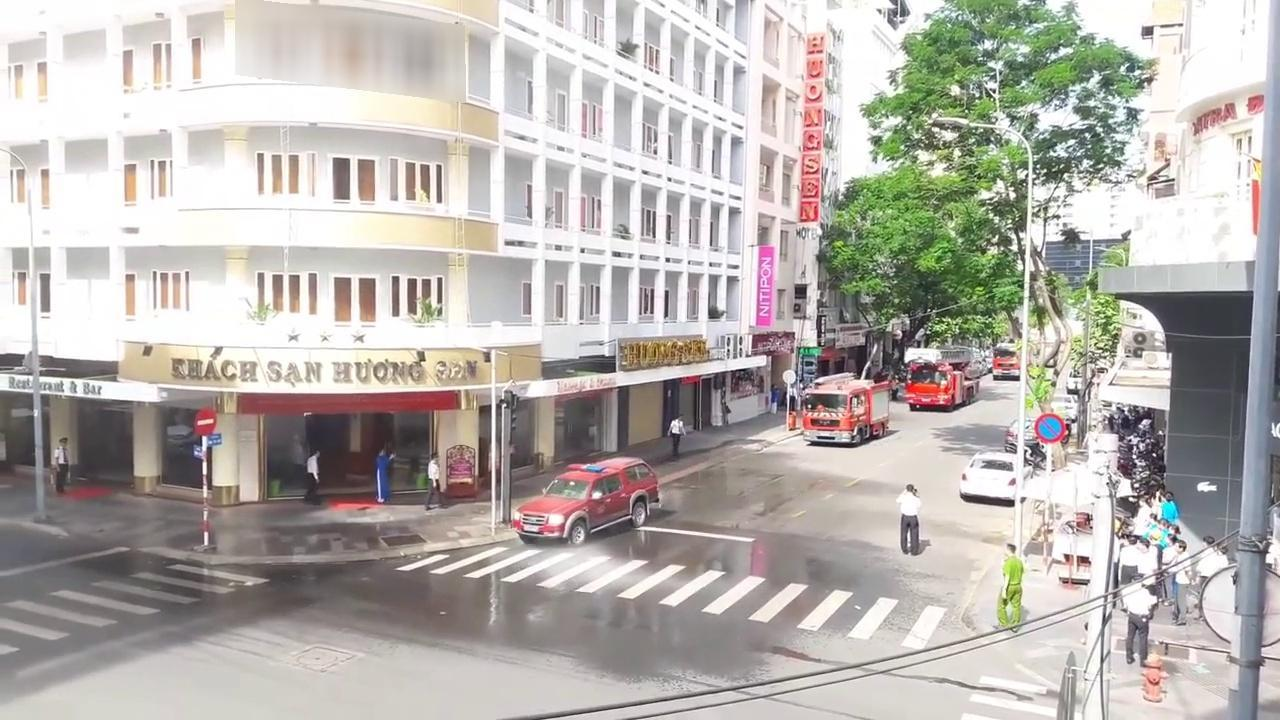xe cuu hoa: (800, 370, 887, 444), (903, 347, 979, 411)
xe hoi: (512, 457, 658, 545), (959, 450, 1015, 502)
